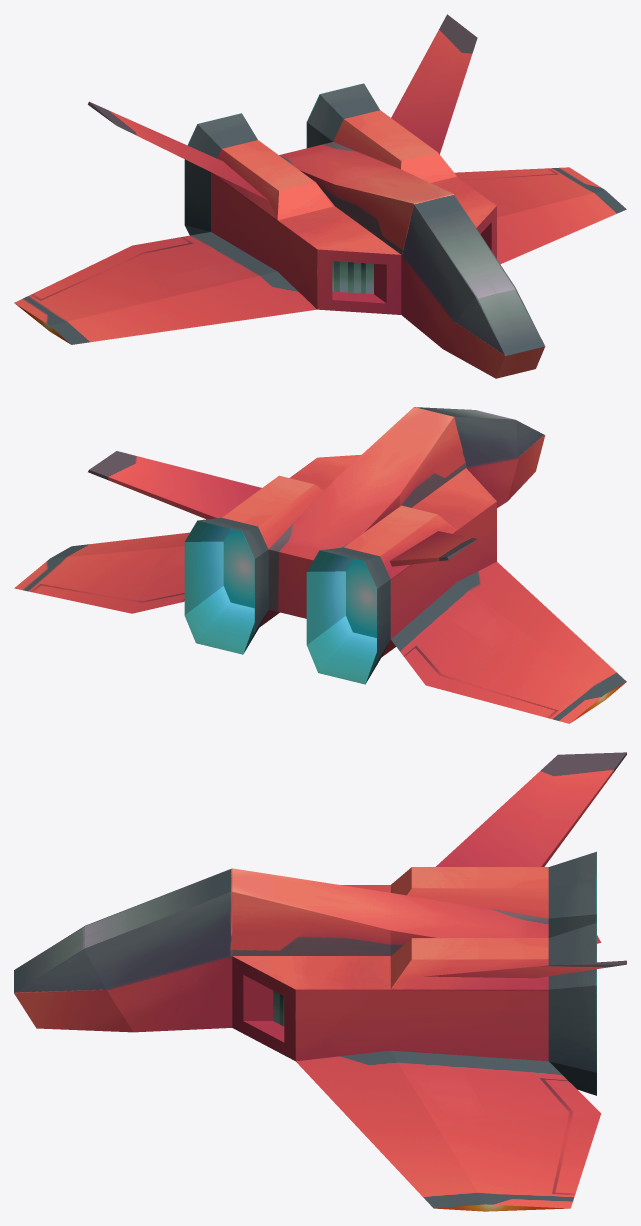
The model's file is Unity.fbx.
3 views of the same model, one above another, from view 1: azimuth 30°, elevation 25°; view 2: azimuth 150°, elevation 25°; view 3: azimuth 270°, elevation 25° (orthographic). The views are drawn at different scales.
Visible parts, largest first — view 1: ship; view 2: ship; view 3: ship.
Part boxes in pixels (left/top/right/bottom): ship: left=14, top=14, right=626, bottom=378; ship: left=14, top=407, right=626, bottom=723; ship: left=14, top=752, right=626, bottom=1211.
Size of the model in its own units: 483 by 135 by 387.
1 material, 1 textured.
